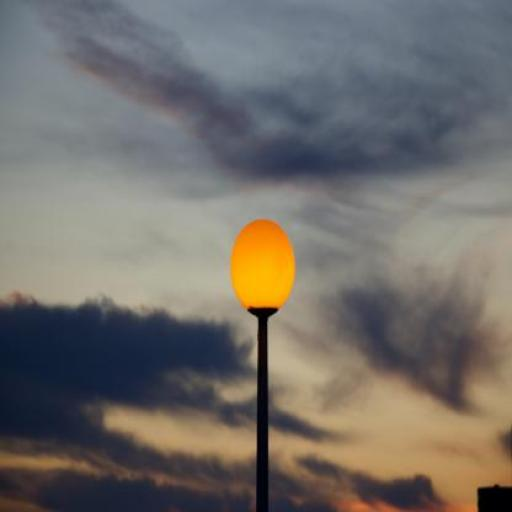street light: (230, 219, 296, 511)
